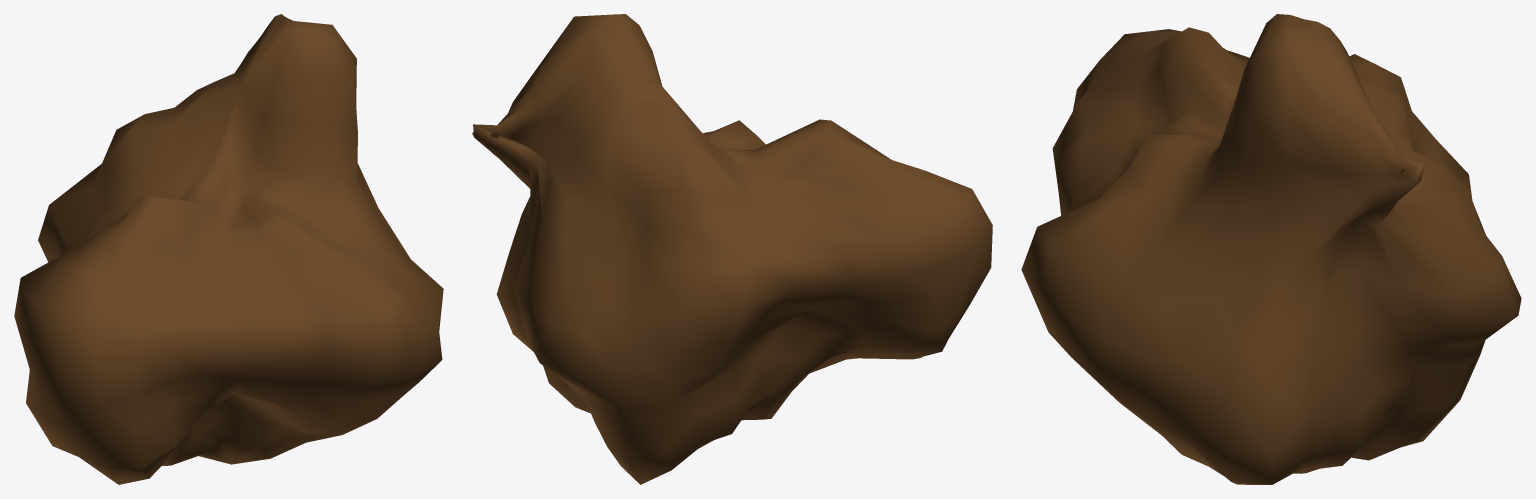
File: Asteroids4.fbx
3 renders of one model, left to right at view 1: azimuth 30°, elevation 25°; view 2: azimuth 150°, elevation 25°; view 3: azimuth 270°, elevation 25°, orthographic. The views are drawn at different scales.
Visible parts, largest first — view 1: Sphere; view 2: Sphere; view 3: Sphere.
Part boxes in pixels (x1,y1,x2,y2): Sphere: [14, 14, 443, 484]; Sphere: [472, 14, 992, 484]; Sphere: [1021, 14, 1521, 484].
Bounding box in the file's own units: 963 × 897 × 838.
